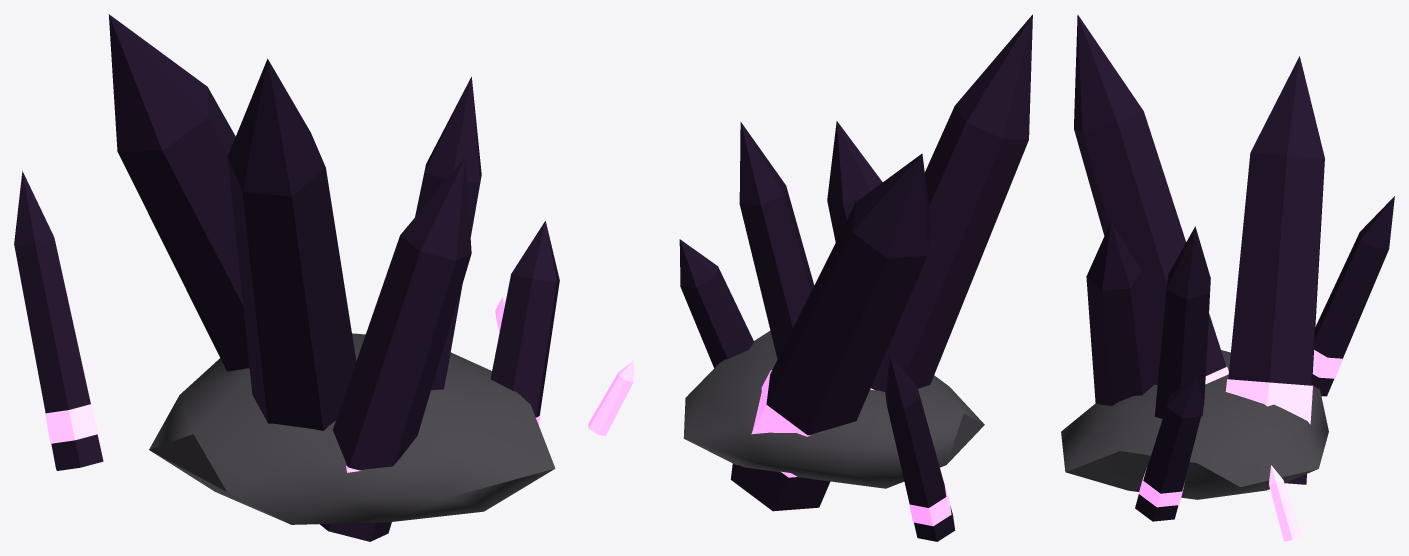
The model's file is crystal_cluster_b.glb.
The picture shows the model from 3 angles, left to right: view 1: azimuth 30°, elevation 25°; view 2: azimuth 150°, elevation 25°; view 3: azimuth 270°, elevation 25°; orthographic projection. The views are drawn at different scales.
Parts seen in each view (by area): view 1: crystal_cluster_b; view 2: crystal_cluster_b; view 3: crystal_cluster_b.
Part boxes in pixels (left/top/right/bottom): crystal_cluster_b: left=14, top=14, right=559, bottom=541; crystal_cluster_b: left=588, top=14, right=1032, bottom=541; crystal_cluster_b: left=1061, top=14, right=1394, bottom=541.
Size of the model in its own units: 1.72 by 1.96 by 1.43.
